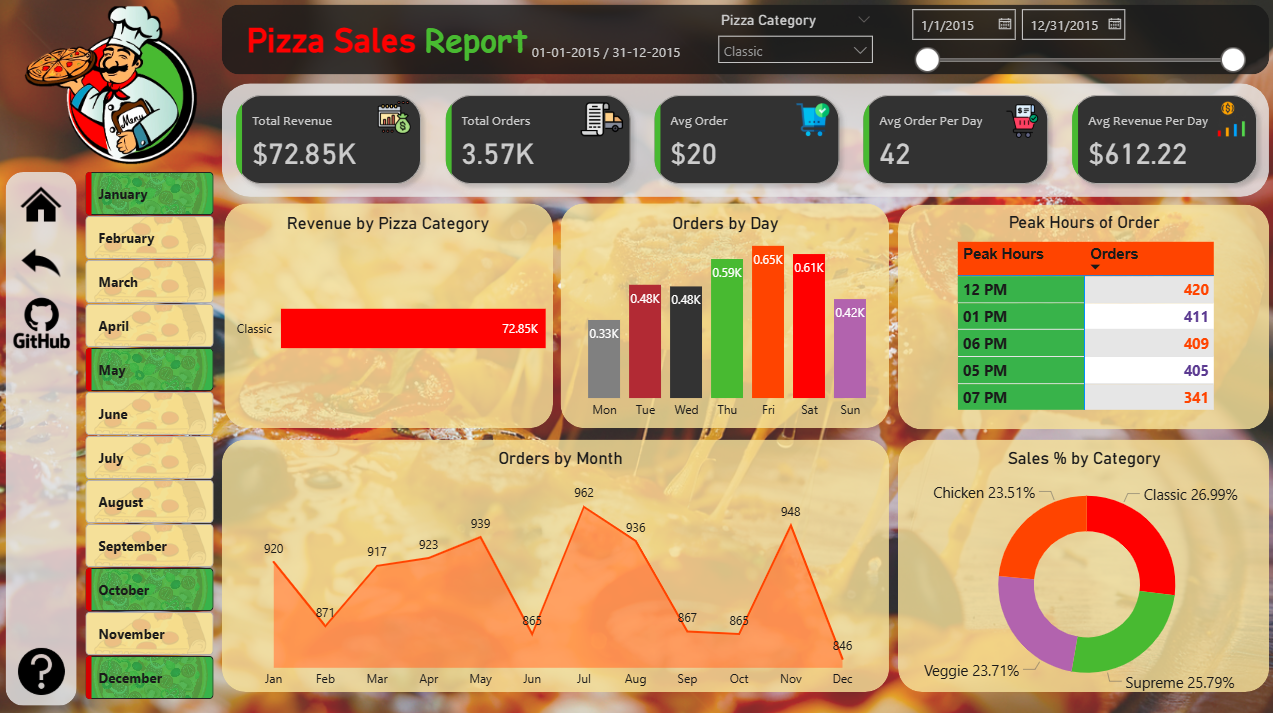

The page's visual inventory and layout, read from the dashboard file:
{"tool":"powerbi","page":{"name":"Dashboard 2","canvas":[1280,720],"ordinal":1},"visuals":[{"type":"shape","box":[222.3,81,1048.4,144.1],"z":0},{"type":"shape","box":[220.9,230.5,526.9,234.6],"z":1000},{"type":"shape","box":[8.2,174.3,71.4,533.8],"z":2000},{"type":"image","box":[15,168.8,56.2,76.2],"z":3000},{"type":"image","box":[15,225,56.2,81.2],"z":4000},{"type":"image","box":[7.5,280,71.2,92.5],"z":5000},{"type":"image","box":[5,640,76.2,68.8],"z":6000},{"type":"image","box":[5,0,216.2,175],"z":7000},{"type":"shape","box":[223.8,7.5,1047.5,70],"z":8000},{"type":"textbox","box":[243.8,15,345,56.2],"z":9000},{"type":"textbox","box":[528.8,41.2,195,27.5],"z":10000},{"type":"slicer","fields":{"Values":["public pizza_orders.pizza_category"]},"box":[710,10,175,61.2],"z":11000},{"type":"slicer","fields":{"Values":["public pizza_orders.order_date"]},"box":[900,7.5,356.2,73.8],"z":12000},{"type":"advancedSlicerVisual","fields":{"Values":["public pizza_orders.MonthFull_name"]},"box":[86.4,175.6,133.1,532.4],"z":13000},{"type":"shape","box":[363.6,230.5,219.6,37],"z":14000},{"type":"shape","box":[220.9,473.4,526.9,234.6],"z":14000,"group":"g1"},{"type":"pivotTable","fields":{"Rows":["public pizza_orders.pizza_name"],"Values":["Min(public pizza_orders.pizza_category)","Sum(public pizza_orders.quantity)"]},"box":[231.9,260.7,565.4,201.7],"z":15000},{"type":"shape","box":[753.3,230.5,517.3,477.5],"z":16000,"group":"g2"},{"type":"group","id":"g1","title":"Group 1","box":[220.9,473.4,526.9,234.6],"z":16000},{"type":"pivotTable","fields":{"Rows":["public pizza_orders.pizza_name"],"Values":["Min(public pizza_orders.pizza_category)","Sum(public pizza_orders.quantity)"]},"box":[231.9,514.6,491.3,182.5],"z":16000,"group":"g1"},{"type":"cardVisual","fields":{"Data":["public pizza_orders.Jumbo_pizza_sales","public pizza_orders.Large_pizza_sales","public pizza_orders.Medium_pizza_sales","public pizza_orders.Small_pizza_sales"]},"box":[220.9,76.8,1056.6,153.7],"z":17000},{"type":"pieChart","fields":{"Y":["Sum(public pizza_orders.quantity)"],"Category":["public pizza_orders.pizza_size"]},"box":[768.4,269.8,488.5,407.6],"z":17000,"group":"g2"},{"type":"shape","box":[360.9,477.5,219.6,37],"z":17000,"group":"g1"},{"type":"group","id":"g2","title":"Group 2","box":[753.3,230.5,517.3,477.5],"z":18000},{"type":"shape","box":[902.9,235.4,219.6,33.1],"z":18000,"group":"g2"},{"type":"card","fields":{"Values":["public pizza_orders.JPS Revenue"]},"box":[366.4,149.6,120.8,65.9],"z":19000},{"type":"card","fields":{"Values":["public pizza_orders.LPS Revenue"]},"box":[629.8,149.6,120.8,65.9],"z":20000},{"type":"card","fields":{"Values":["public pizza_orders.MPS Revenue"]},"box":[890.6,149.6,120.8,65.9],"z":21000},{"type":"card","fields":{"Values":["public pizza_orders.SPS Revenue"]},"box":[1154,149.6,120.8,65.9],"z":22000}]}

Visuals, with their boxes in screenshot pixels (x1, y1, x2, y2), scaled from the page's 1280x720 canvas onto the 1273x713 screenshot:
shape: bbox=(221, 80, 1264, 223)
shape: bbox=(220, 228, 744, 461)
shape: bbox=(8, 173, 79, 701)
image: bbox=(15, 167, 71, 243)
image: bbox=(15, 223, 71, 303)
image: bbox=(7, 277, 78, 369)
image: bbox=(5, 634, 81, 702)
image: bbox=(5, 0, 220, 173)
shape: bbox=(223, 7, 1264, 77)
textbox: bbox=(242, 15, 586, 71)
textbox: bbox=(526, 41, 720, 68)
slicer - public pizza_orders.pizza_category: bbox=(706, 10, 880, 71)
slicer - public pizza_orders.order_date: bbox=(895, 7, 1249, 81)
advancedSlicerVisual - public pizza_orders.MonthFull_name: bbox=(86, 174, 218, 701)
shape: bbox=(362, 228, 580, 265)
shape: bbox=(220, 469, 744, 701)
pivotTable - public pizza_orders.pizza_name x Min(public pizza_orders.pizza_category): bbox=(231, 258, 793, 458)
shape: bbox=(749, 228, 1264, 701)
"Group 1" group: bbox=(220, 469, 744, 701)
pivotTable - public pizza_orders.pizza_name x Min(public pizza_orders.pizza_category): bbox=(231, 510, 719, 690)
cardVisual - public pizza_orders.Jumbo_pizza_sales x public pizza_orders.Large_pizza_sales: bbox=(220, 76, 1271, 228)
pieChart - Sum(public pizza_orders.quantity) x public pizza_orders.pizza_size: bbox=(764, 267, 1250, 671)
shape: bbox=(359, 473, 577, 509)
"Group 2" group: bbox=(749, 228, 1264, 701)
shape: bbox=(898, 233, 1116, 266)
card - public pizza_orders.JPS Revenue: bbox=(364, 148, 485, 213)
card - public pizza_orders.LPS Revenue: bbox=(626, 148, 746, 213)
card - public pizza_orders.MPS Revenue: bbox=(886, 148, 1006, 213)
card - public pizza_orders.SPS Revenue: bbox=(1148, 148, 1268, 213)
